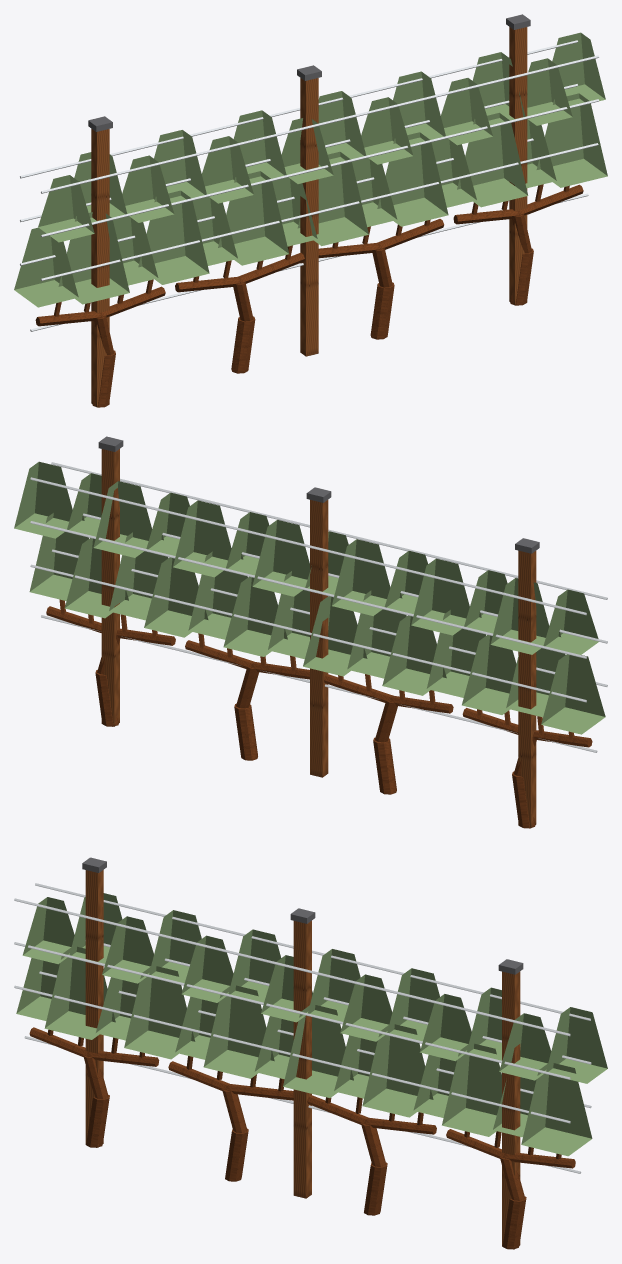
Rendered from vine-row-leafed.glb.
3 views of the same model, one above another, from view 1: azimuth 30°, elevation 25°; view 2: azimuth 150°, elevation 25°; view 3: azimuth 330°, elevation 25° (orthographic).
Visible parts, largest first — view 1: vine-row-leafed-leaf, vine-row-leafed-timber, vine-row-leafed-oak, vine-row-leafed-steel, vine-row-leafed-dark; view 2: vine-row-leafed-leaf, vine-row-leafed-timber, vine-row-leafed-oak, vine-row-leafed-steel, vine-row-leafed-dark; view 3: vine-row-leafed-leaf, vine-row-leafed-oak, vine-row-leafed-timber, vine-row-leafed-steel, vine-row-leafed-dark.
Part boxes in pixels (bbox=[...]): vine-row-leafed-leaf: bbox=[14, 32, 607, 307]; vine-row-leafed-timber: bbox=[91, 27, 527, 407]; vine-row-leafed-oak: bbox=[35, 184, 583, 407]; vine-row-leafed-steel: bbox=[20, 40, 598, 331]; vine-row-leafed-dark: bbox=[88, 14, 530, 131]; vine-row-leafed-leaf: bbox=[14, 461, 605, 734]; vine-row-leafed-timber: bbox=[101, 449, 536, 828]; vine-row-leafed-oak: bbox=[46, 599, 592, 828]; vine-row-leafed-steel: bbox=[30, 462, 607, 752]; vine-row-leafed-dark: bbox=[98, 436, 539, 553]; vine-row-leafed-leaf: bbox=[16, 893, 607, 1156]; vine-row-leafed-oak: bbox=[29, 1027, 575, 1249]; vine-row-leafed-timber: bbox=[85, 870, 520, 1249]; vine-row-leafed-steel: bbox=[14, 883, 591, 1173]; vine-row-leafed-dark: bbox=[82, 857, 523, 974].
Bounding box in the file's own units: 4.09 × 1.94 × 0.3998.
5 materials, 2 textured.
